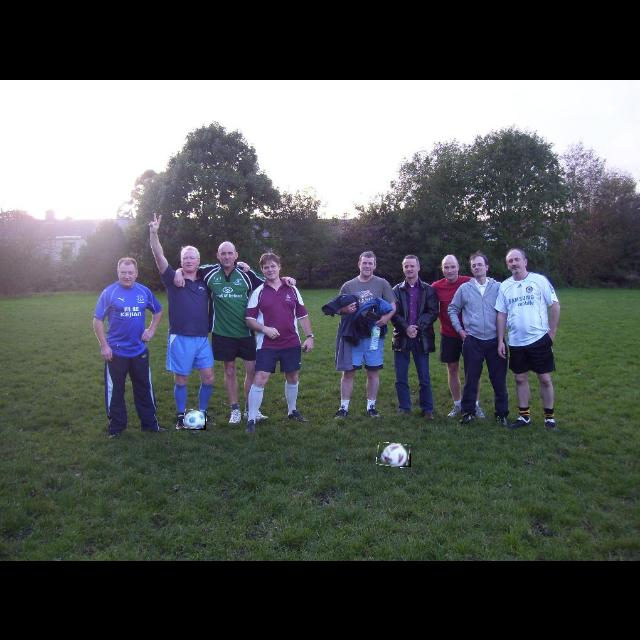Football: (377, 443, 411, 467), (184, 410, 206, 430)
